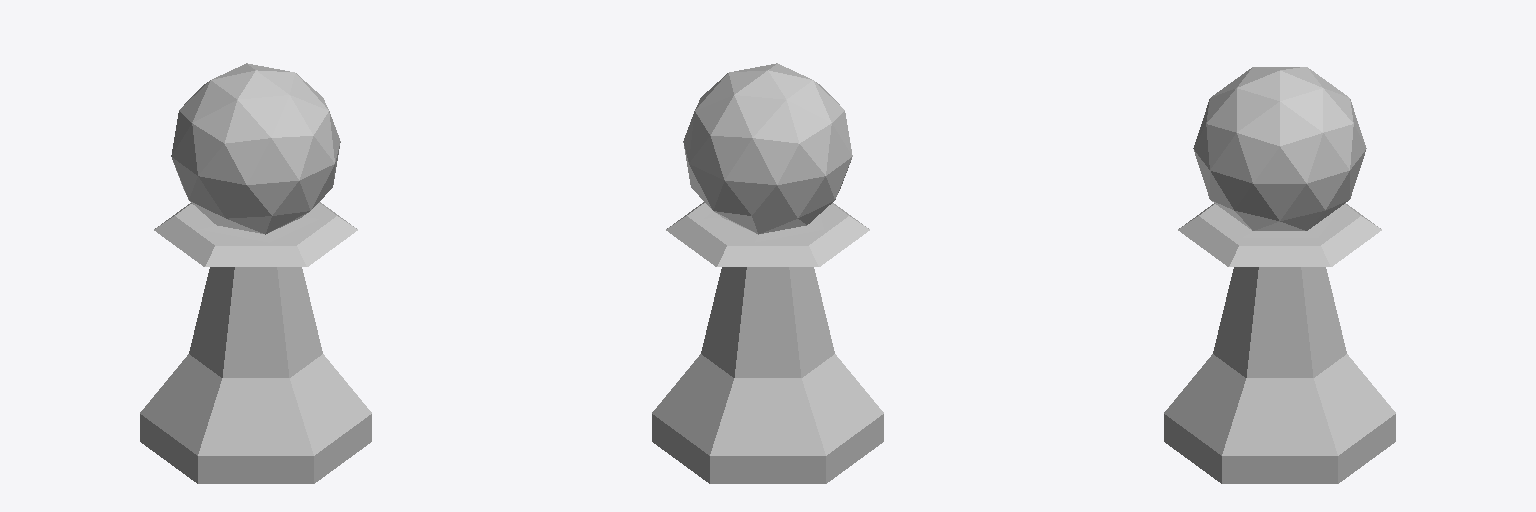
Rendered from pawn.obj.
The picture shows the model from 3 angles: view 1: azimuth 30°, elevation 25°; view 2: azimuth 150°, elevation 25°; view 3: azimuth 270°, elevation 25°; orthographic projection.
Parts seen in each view (by area): view 1: Pawn; view 2: Pawn; view 3: Pawn.
Boxes of the visible parts, box(x1,y1,x2,y2) form: Pawn: box(140, 63, 371, 483); Pawn: box(652, 63, 883, 483); Pawn: box(1164, 67, 1395, 483).
Bounding box in the file's own units: 0.1923 × 0.391 × 0.2221.